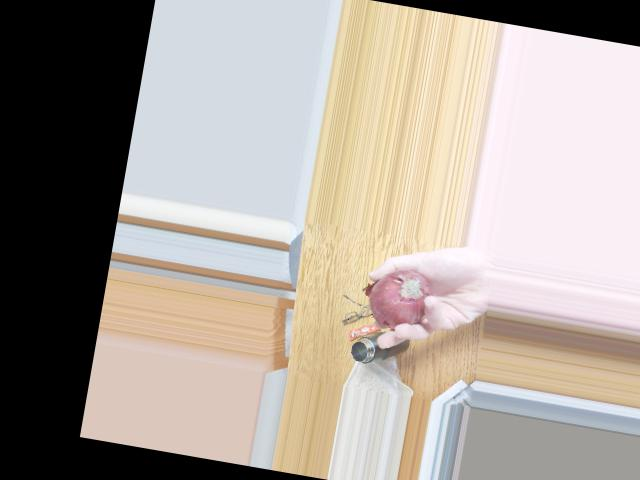onion: (372, 264, 434, 329)
